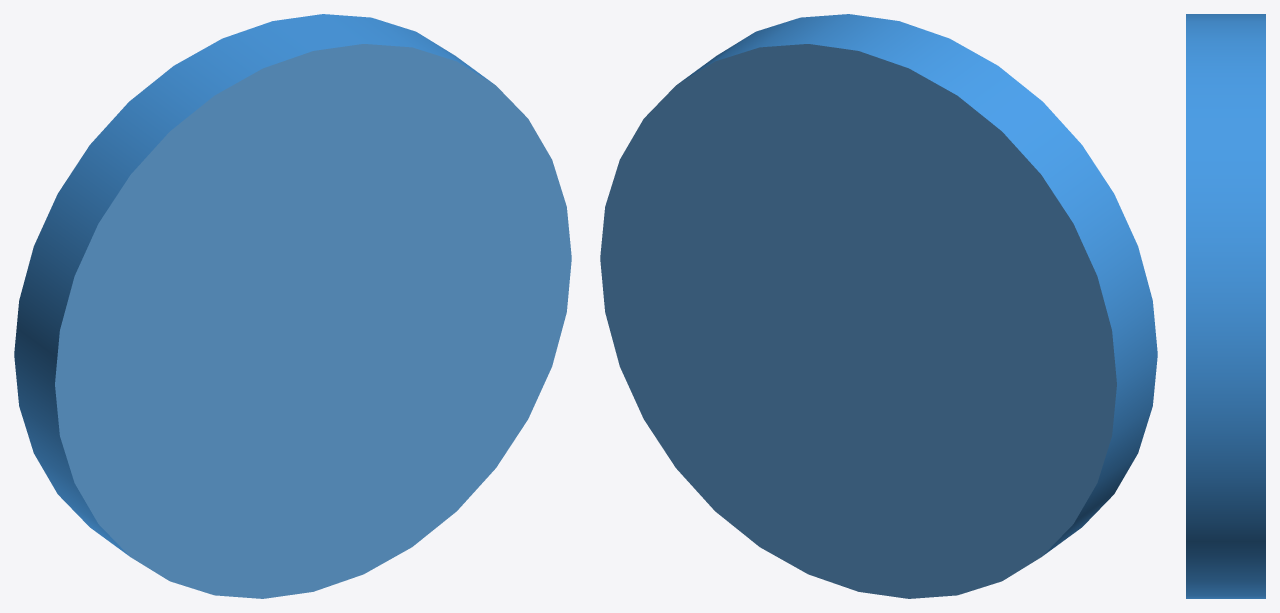
File: D_FBX_03_Pin.fbx
3 views of the same model, side by side, from view 1: azimuth 30°, elevation 25°; view 2: azimuth 150°, elevation 25°; view 3: azimuth 270°, elevation 25° (orthographic).
Parts seen in each view (by area): view 1: D_FBX_03_Pin; view 2: D_FBX_03_Pin; view 3: D_FBX_03_Pin.
Boxes of the visible parts, x1,y1,x2,y2 form: D_FBX_03_Pin: (14,14,571,598); D_FBX_03_Pin: (600,14,1157,598); D_FBX_03_Pin: (1186,14,1265,598).
Size of the model in its own units: 73.21 by 73.21 by 10.
